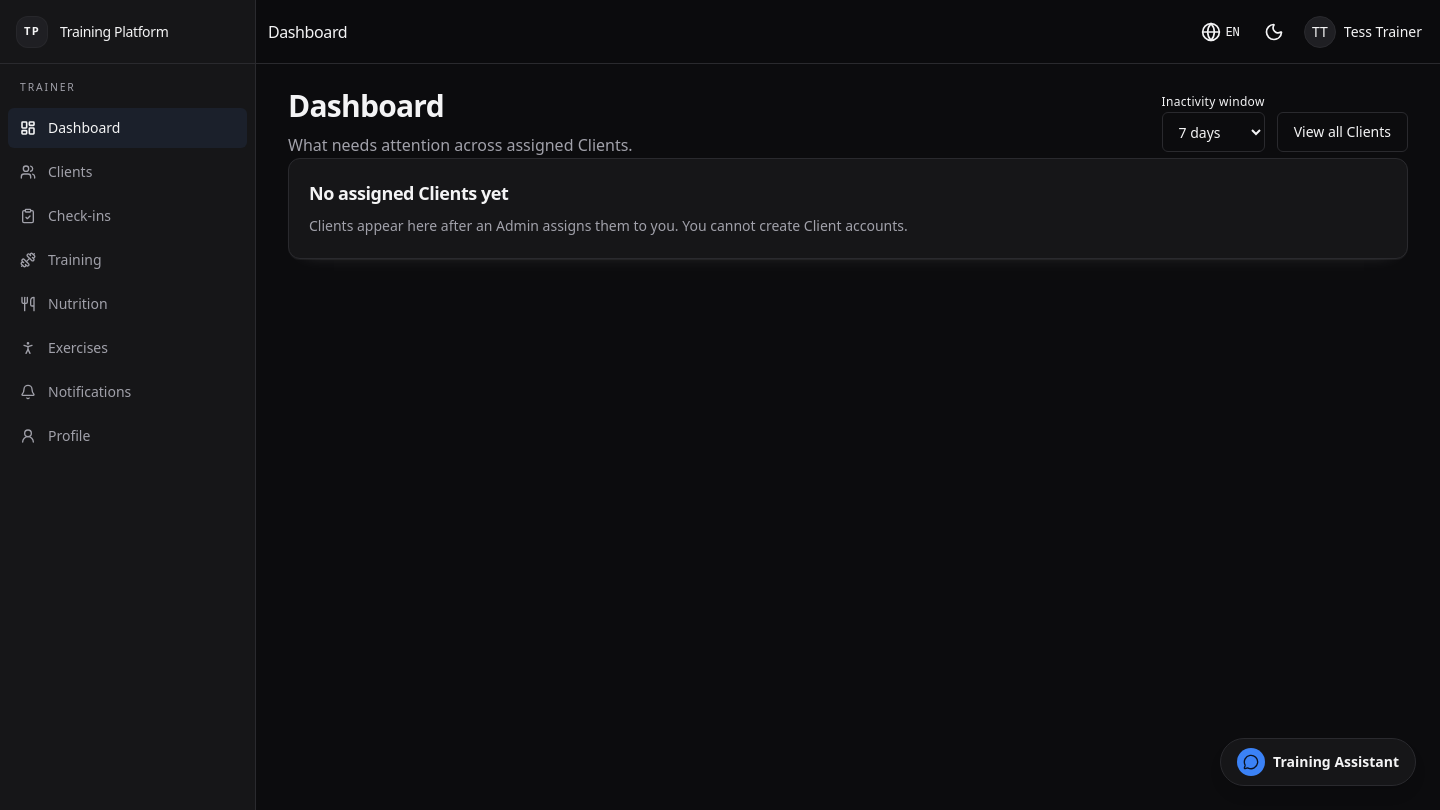
Test: role shells › lets a TRAINER open planned destinations
The width and height of the screenshot is (1440, 810).
Expected: the heading "Dashboard" is shown, [288, 85, 444, 126]
Click the link "Clients" at (56, 171), box [20, 162, 92, 181]
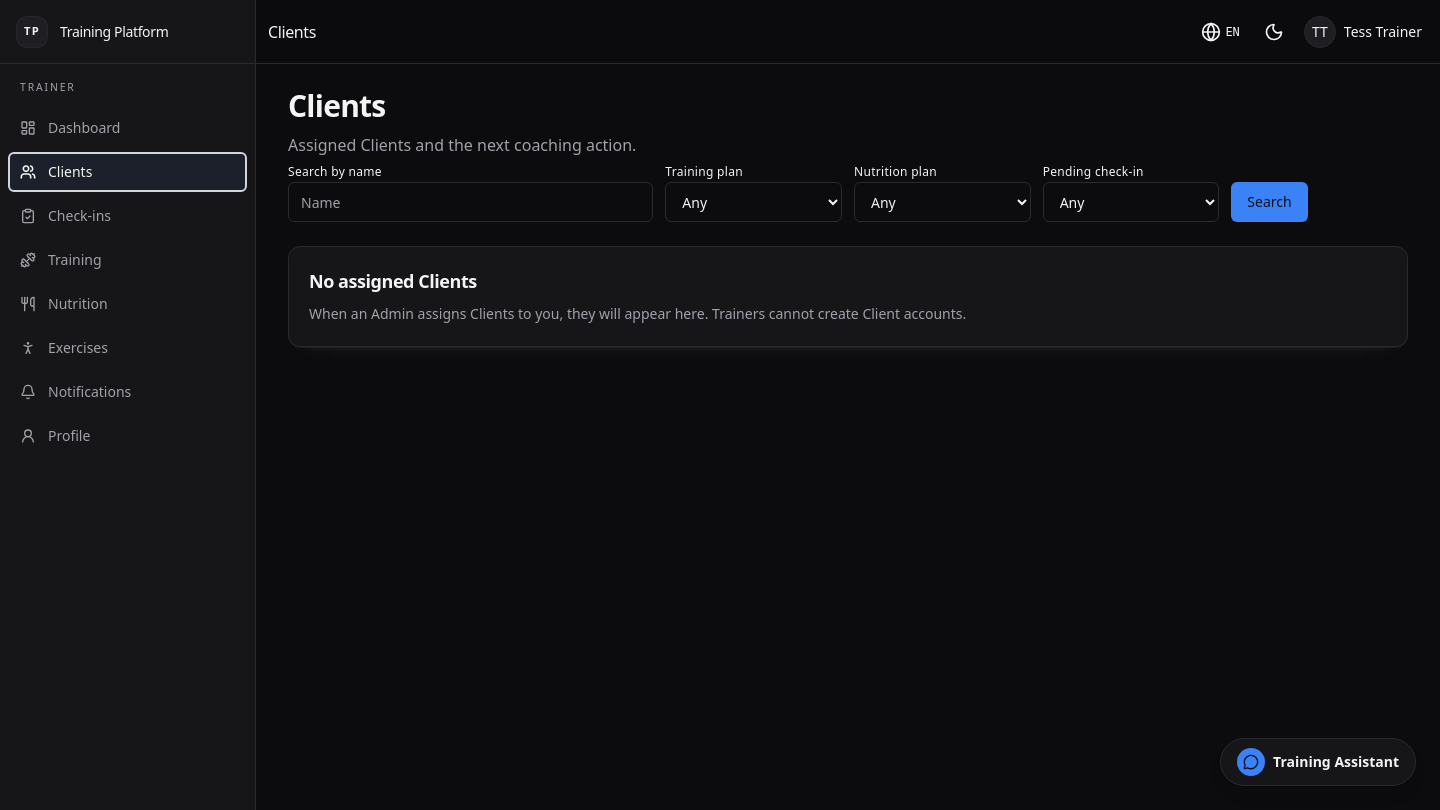
Result: the heading "Clients" is shown at [288, 85, 386, 126]
